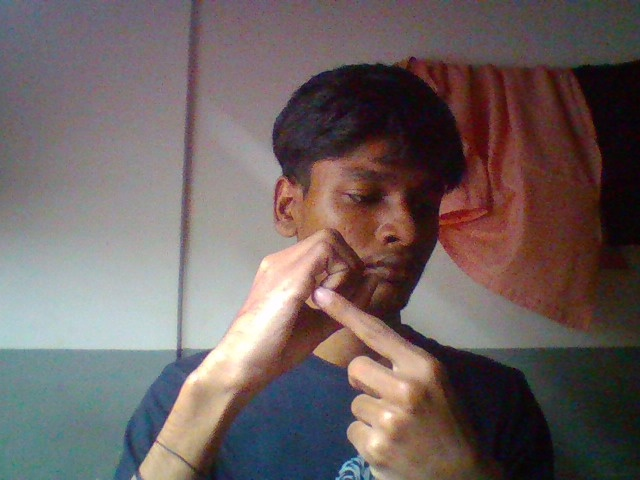Q: (166, 217, 511, 480)
